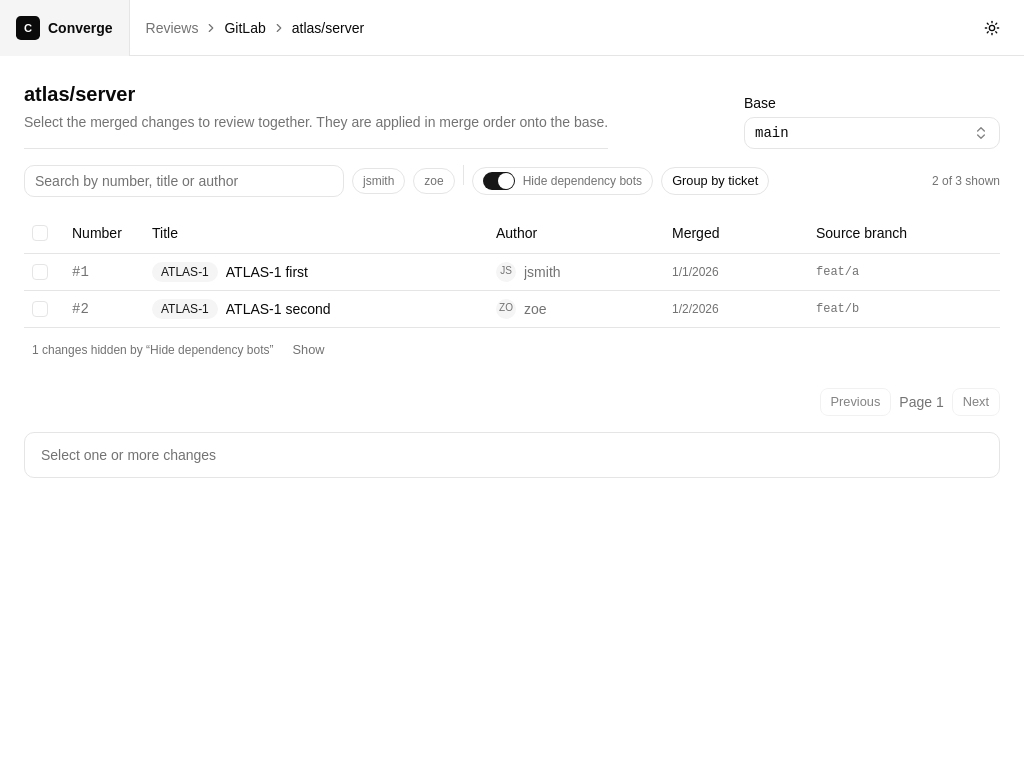
Test: SelectChangesPage › posts the selected changes in apply order
The width and height of the screenshot is (1024, 768).
Click the text "ATLAS-1 second".
click(278, 308)  # box 226,298 -> 331,318
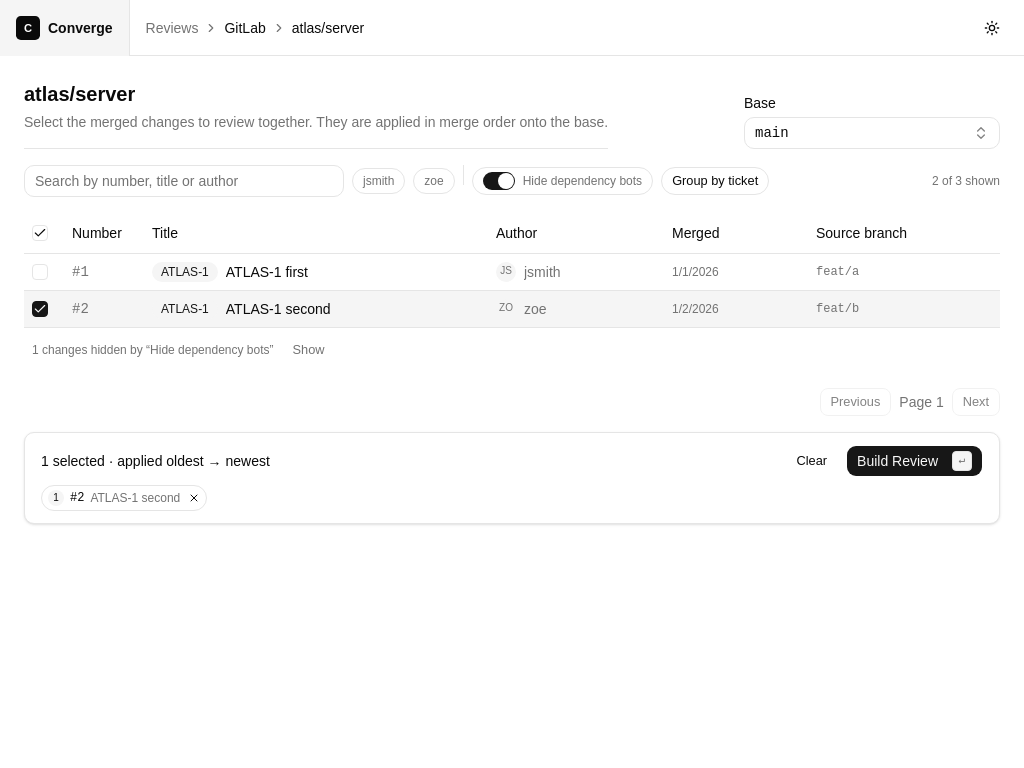
Click the text "ATLAS-1 first".
click(267, 272)  # box 226,262 -> 308,282
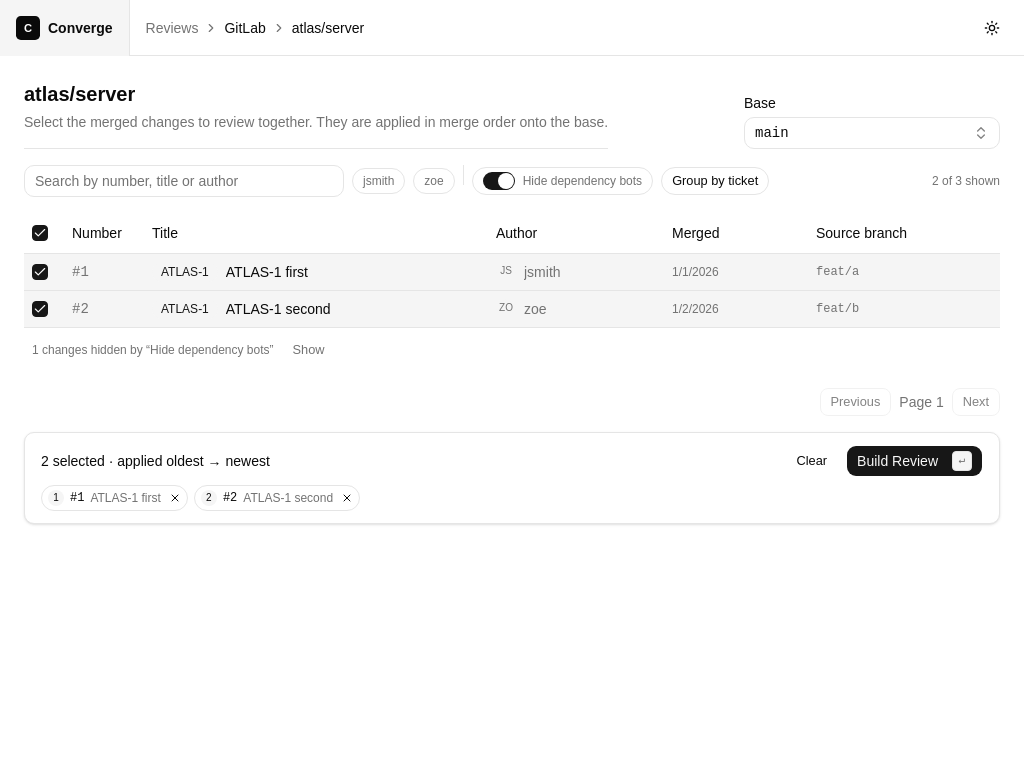
Click the button "Build Review ↵".
click(915, 460)  # box 846,444 -> 983,476
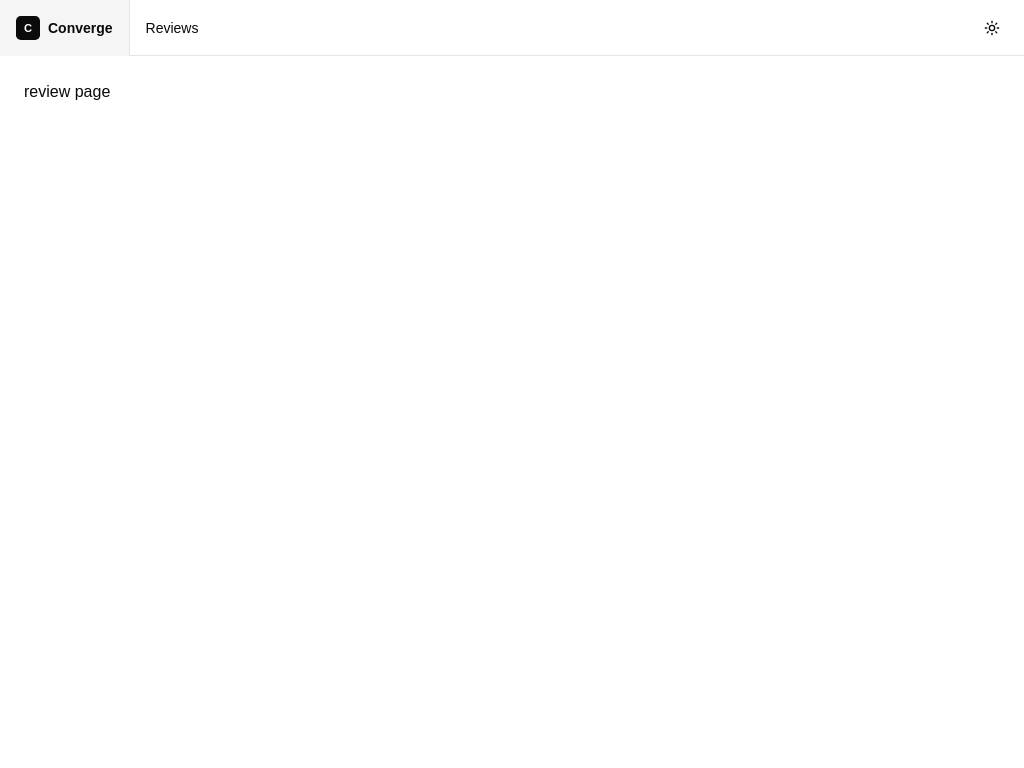
Expected: the text "review page" is shown, 24,83 -> 110,100
